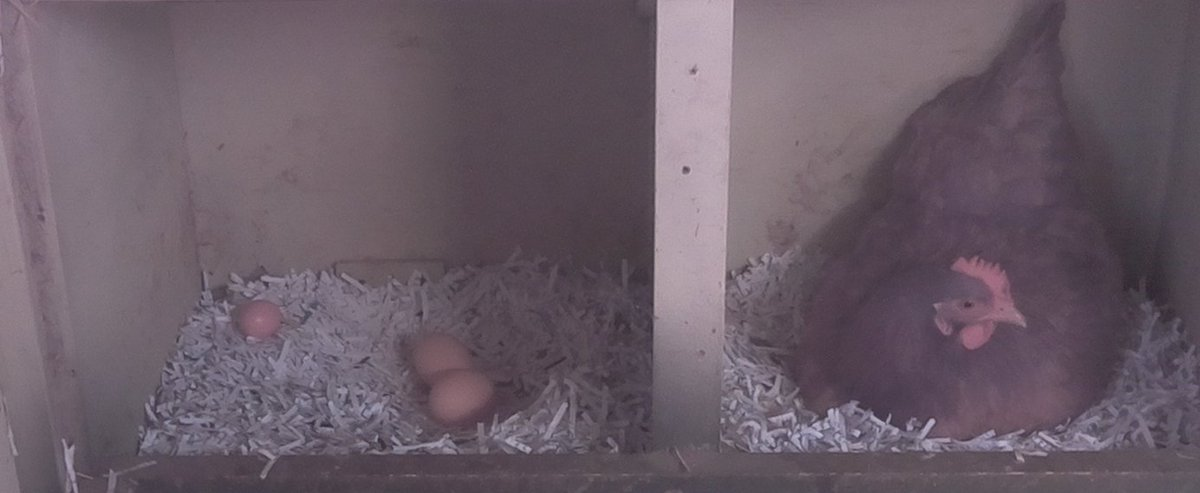egg: (424, 367, 500, 427), (410, 329, 478, 381), (236, 297, 285, 340)
hen: (789, 11, 1128, 437)
